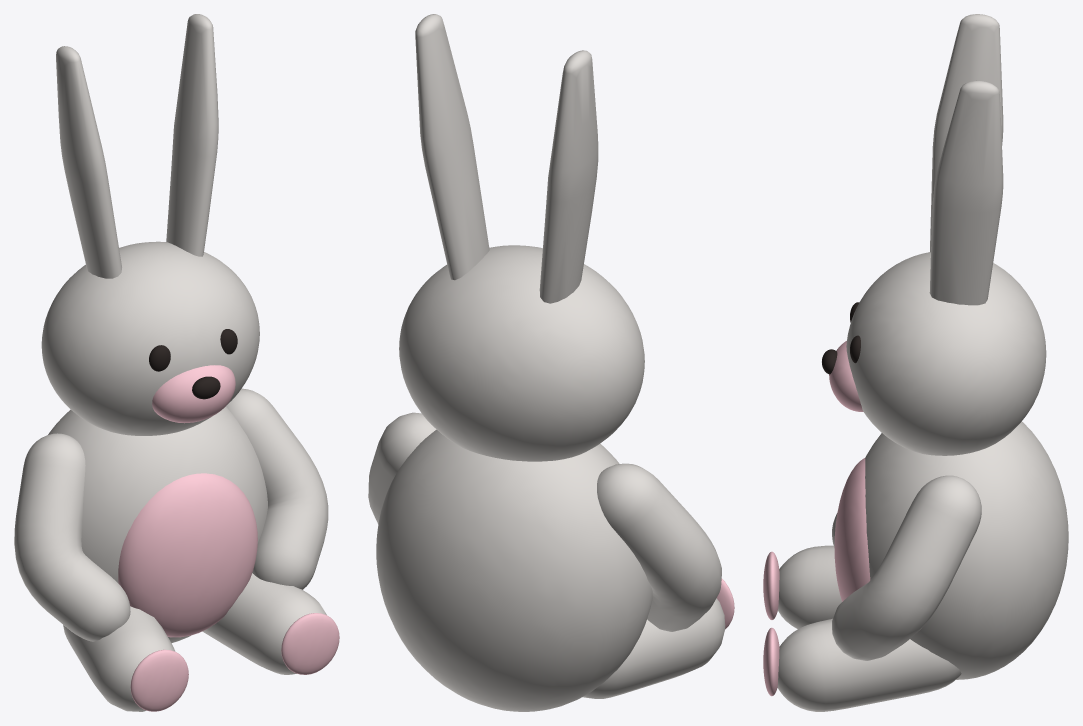
Rendered from deco_conejo_peluche.glb.
The picture shows the model from 3 angles, left to right: view 1: azimuth 30°, elevation 25°; view 2: azimuth 150°, elevation 25°; view 3: azimuth 270°, elevation 25°; orthographic projection. The views are drawn at different scales.
Parts seen in each view (by area): view 1: cabeza conejo.001, barriga conejo.001, panza conejo.001, brazo.020, brazo.021, oreja conejo.003, oreja conejo.002, pierna.019, pierna.018, hocico.009, planta pata.019, planta pata.018 (+1 smaller); view 2: panza conejo.001, cabeza conejo.001, brazo.020, oreja conejo.003, oreja conejo.002, pierna.018, brazo.021; view 3: cabeza conejo.001, panza conejo.001, brazo.021, oreja conejo.003, pierna.019, oreja conejo.002, pierna.018, barriga conejo.001, hocico.009, planta pata.018, planta pata.019.
Part boxes in pixels (x1,y1,x2,y2): cabeza conejo.001: (41,241,259,435); barriga conejo.001: (118,473,257,637); panza conejo.001: (48,406,267,642); brazo.020: (14,433,130,641); brazo.021: (226,388,328,589); oreja conejo.003: (166,14,218,256); oreja conejo.002: (56,46,121,278); pierna.019: (202,573,326,674); pierna.018: (63,606,175,711); hocico.009: (152,365,235,423); planta pata.019: (281,613,339,674); planta pata.018: (130,649,188,711); panza conejo.001: (376,429,652,711); cabeza conejo.001: (399,245,644,461); brazo.020: (597,463,721,631); oreja conejo.003: (415,14,489,280); oreja conejo.002: (539,50,598,303); pierna.018: (582,598,725,698); brazo.021: (368,412,436,523); cabeza conejo.001: (846,252,1046,455); panza conejo.001: (865,421,1068,679); brazo.021: (832,475,981,660); oreja conejo.003: (929,80,1003,305); pierna.019: (777,618,961,711); oreja conejo.002: (930,14,1003,252); pierna.018: (778,545,841,628); barriga conejo.001: (834,458,870,601); hocico.009: (829,341,863,411); planta pata.018: (763,551,779,619); planta pata.019: (763,627,779,696).
Bounding box in the file's own units: 0.3188 × 0.6099 × 0.2716.
